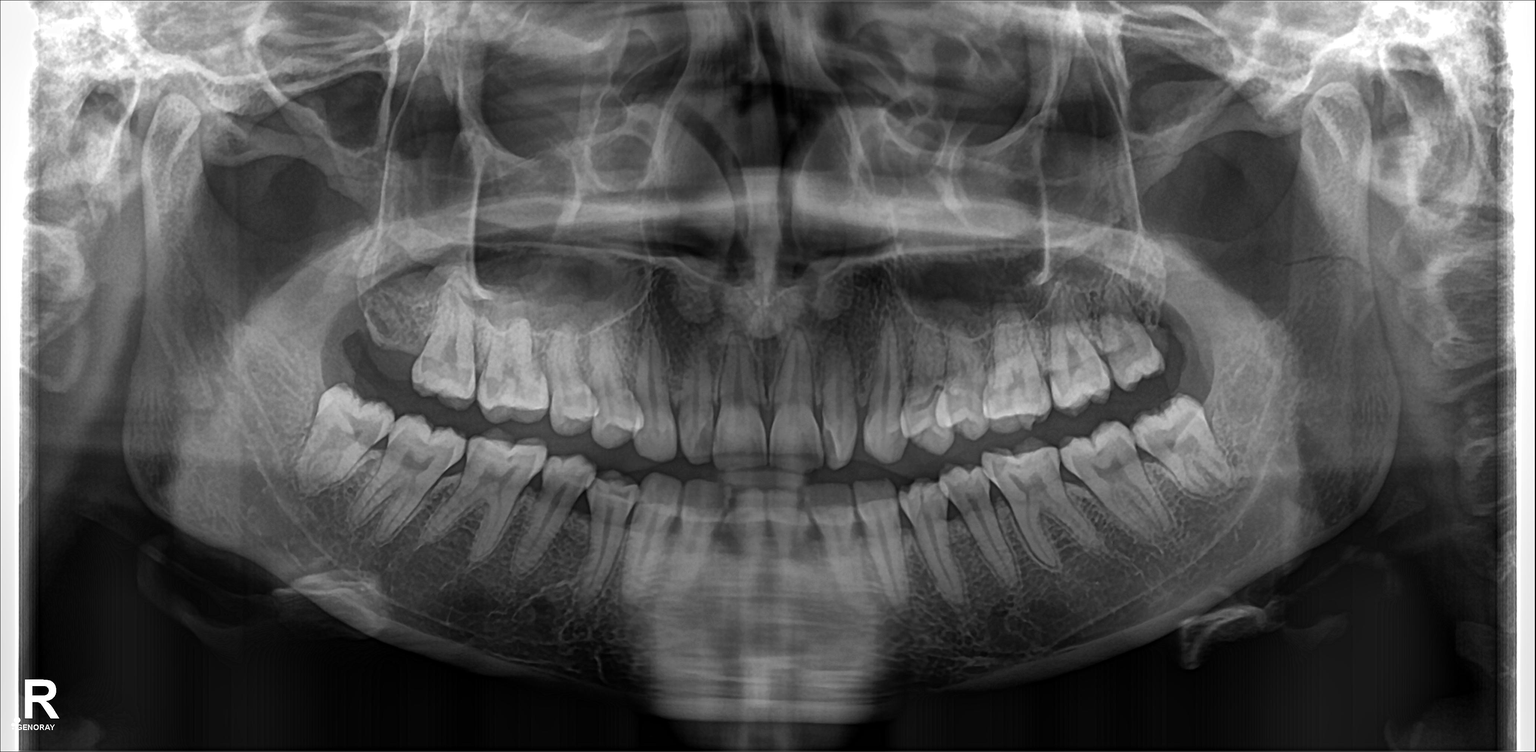Impacted Third Molar: (1134, 410, 1237, 484)
Missing Tooth: (365, 262, 420, 372)
